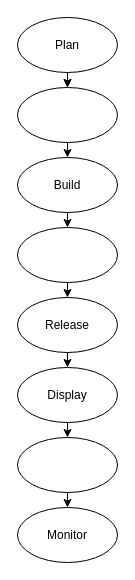
Image size: 135x580. Some labels were removed from this diagram. Each missing label, with the centre of its shape:
Code: the point at 67,114
Operate: the point at 67,464
Test: the point at 67,254
